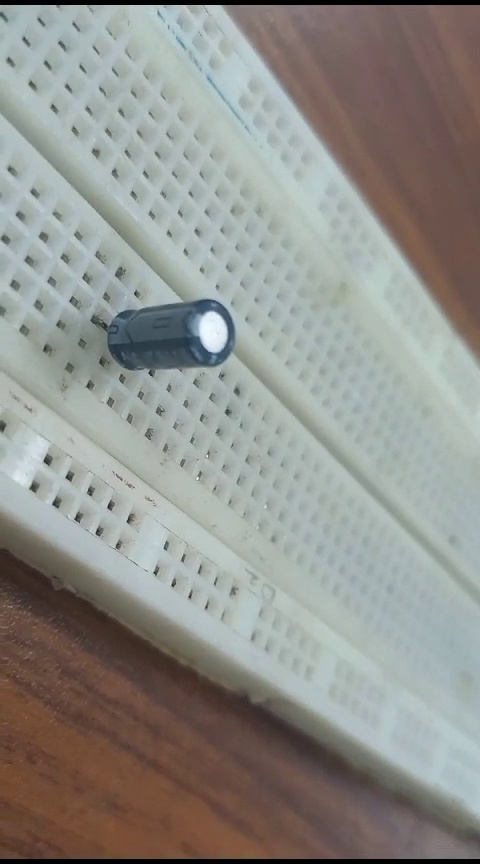capacitor: (92, 284, 236, 376)
